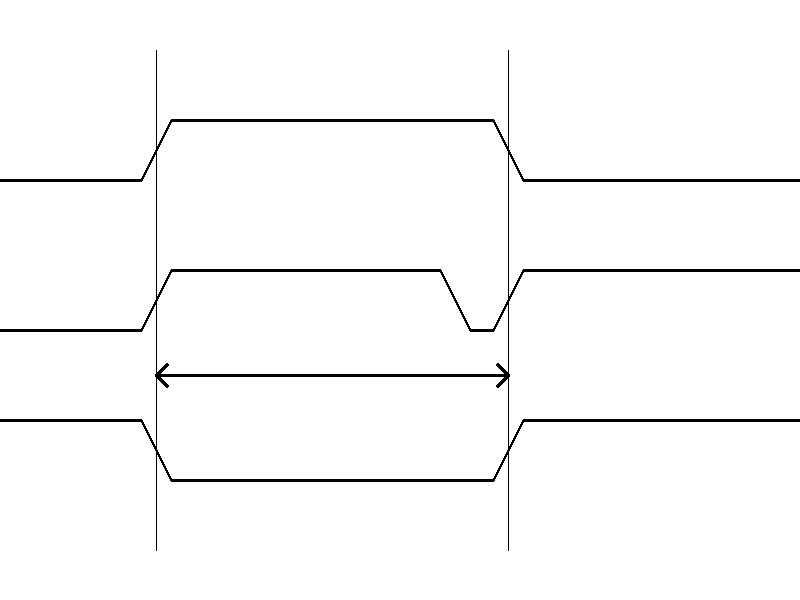double_arrow: (156, 360, 508, 390)
